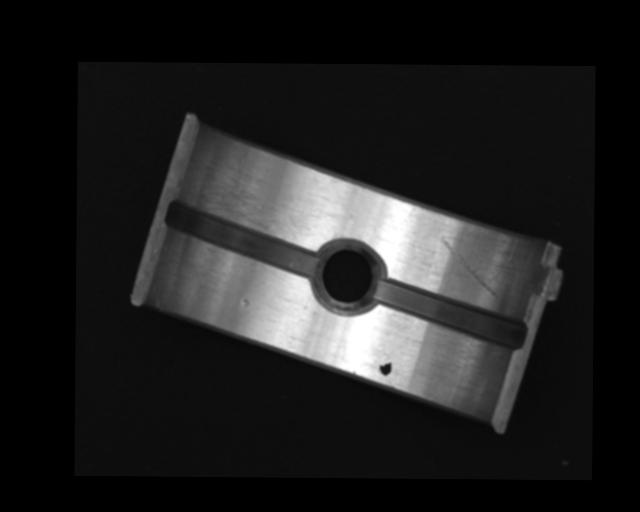blot: (378, 357, 392, 376)
bruise: (240, 298, 250, 307)
gap: (167, 201, 318, 278), (374, 279, 527, 350)
hole: (314, 241, 381, 315)
nick: (439, 235, 499, 298)
scratch: (188, 158, 314, 243)
